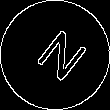N_SW: (24, 23, 86, 87)
